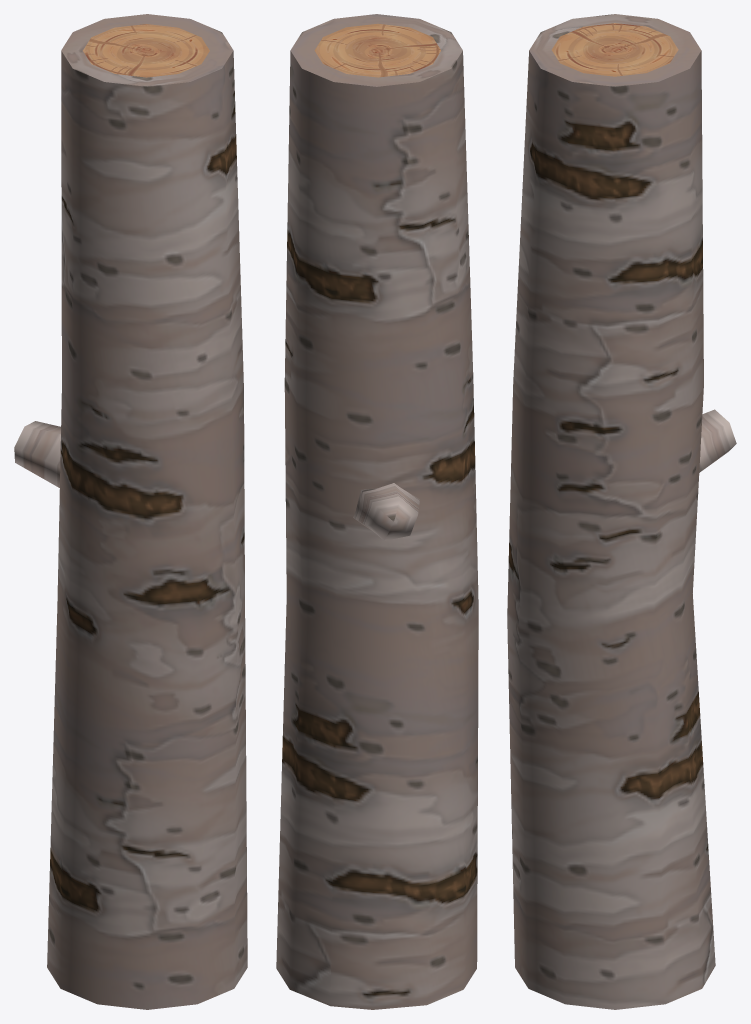
Rendered from obj_harvests_trees_birch01_p01.fbx.
3 renders of one model, left to right at view 1: azimuth 30°, elevation 25°; view 2: azimuth 150°, elevation 25°; view 3: azimuth 270°, elevation 25°, orthographic.
Parts seen in each view (by area): view 1: chunk01; view 2: chunk01; view 3: chunk01.
Boxes of the visible parts, x1,y1,x2,y2 form: chunk01: (14, 14, 247, 1009); chunk01: (276, 14, 478, 1009); chunk01: (507, 14, 736, 1009).
Size of the model in its own units: 1.59 by 8 by 1.81.
